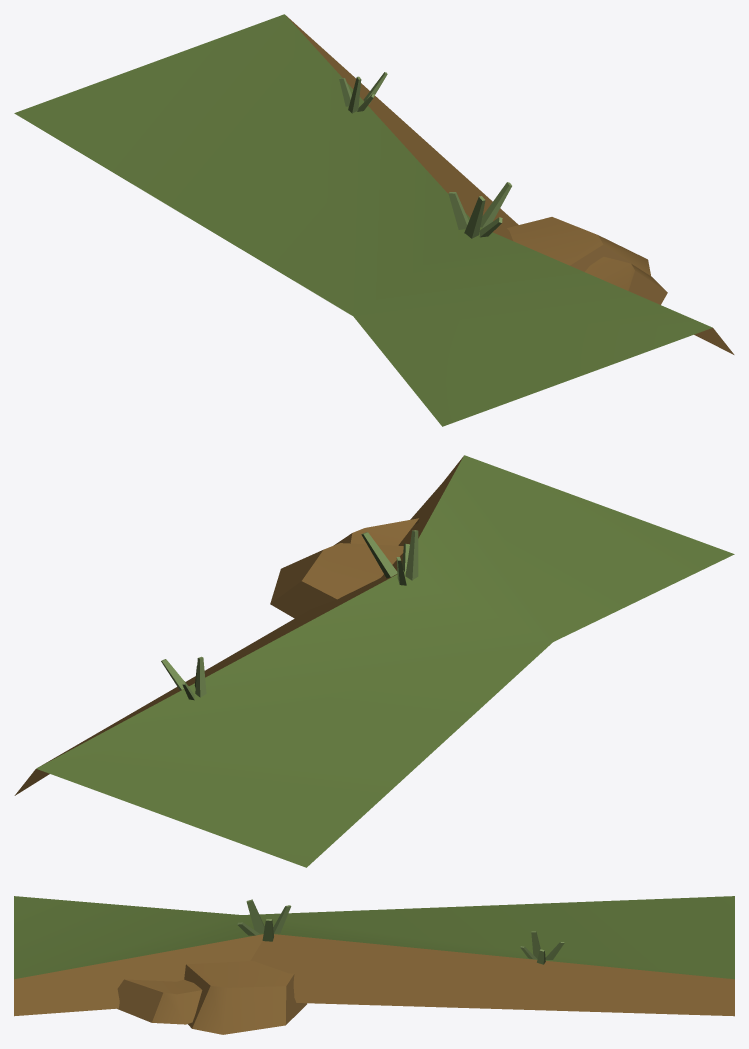
Rendered from SF_Env_GrassEdge_Straight_02.fbx.
3 views of the same model, one above another, from view 1: azimuth 30°, elevation 25°; view 2: azimuth 150°, elevation 25°; view 3: azimuth 270°, elevation 25° (orthographic). The views are drawn at different scales.
Visible parts, largest first — view 1: SF_Env_GrassEdge_Straight_02; view 2: SF_Env_GrassEdge_Straight_02; view 3: SF_Env_GrassEdge_Straight_02.
Boxes of the visible parts, left/top/right/bottom form: SF_Env_GrassEdge_Straight_02: left=14, top=14, right=734, bottom=426; SF_Env_GrassEdge_Straight_02: left=14, top=455, right=734, bottom=867; SF_Env_GrassEdge_Straight_02: left=14, top=896, right=734, bottom=1034.
Bounding box in the file's own units: 8.89 × 2.36 × 20.
